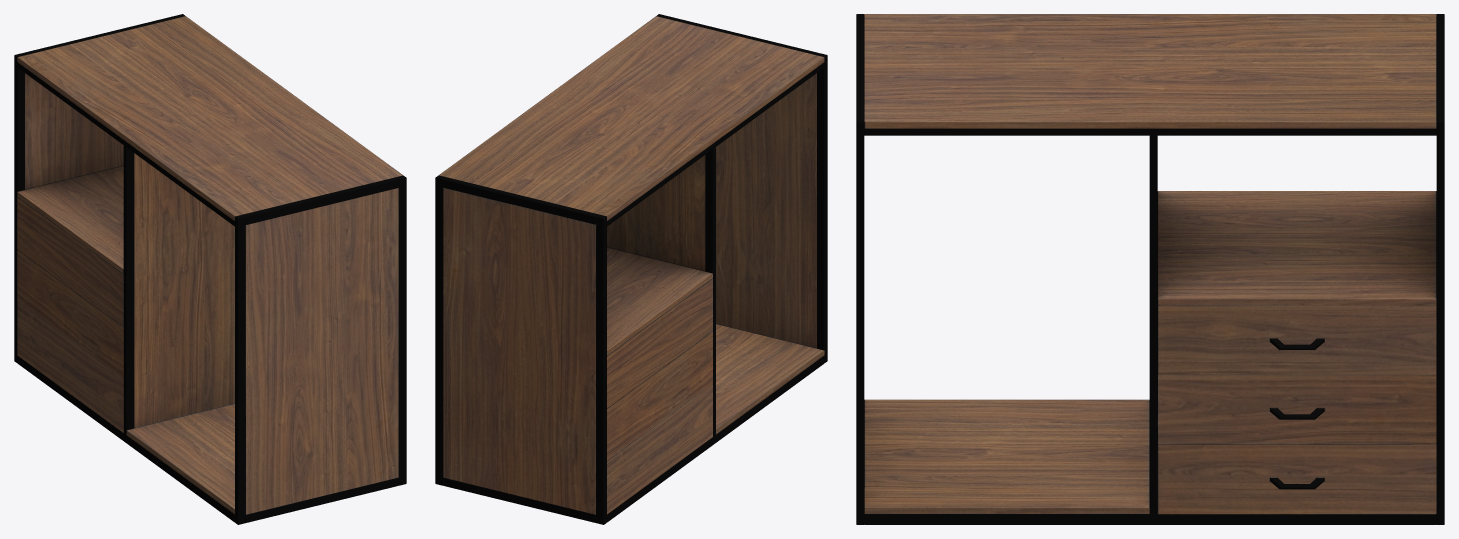
The model's file is microfridge.glb.
3 views of the same model, side by side, from view 1: azimuth 30°, elevation 25°; view 2: azimuth 150°, elevation 25°; view 3: azimuth 270°, elevation 25° (orthographic). The views are drawn at different scales.
Visible parts, largest first — view 1: wood, metal; view 2: wood, metal; view 3: wood, metal.
Part boxes in pixels (x1,y1,x2,y2): wood: (17,16,403,514); metal: (14,14,406,524); wood: (438,16,824,514); metal: (435,14,827,524); wood: (864,14,1436,514); metal: (856,14,1444,524).
Bounding box in the file's own units: 0.6892 × 1.11 × 1.47.
Materials: 2 (1 with a texture image).
